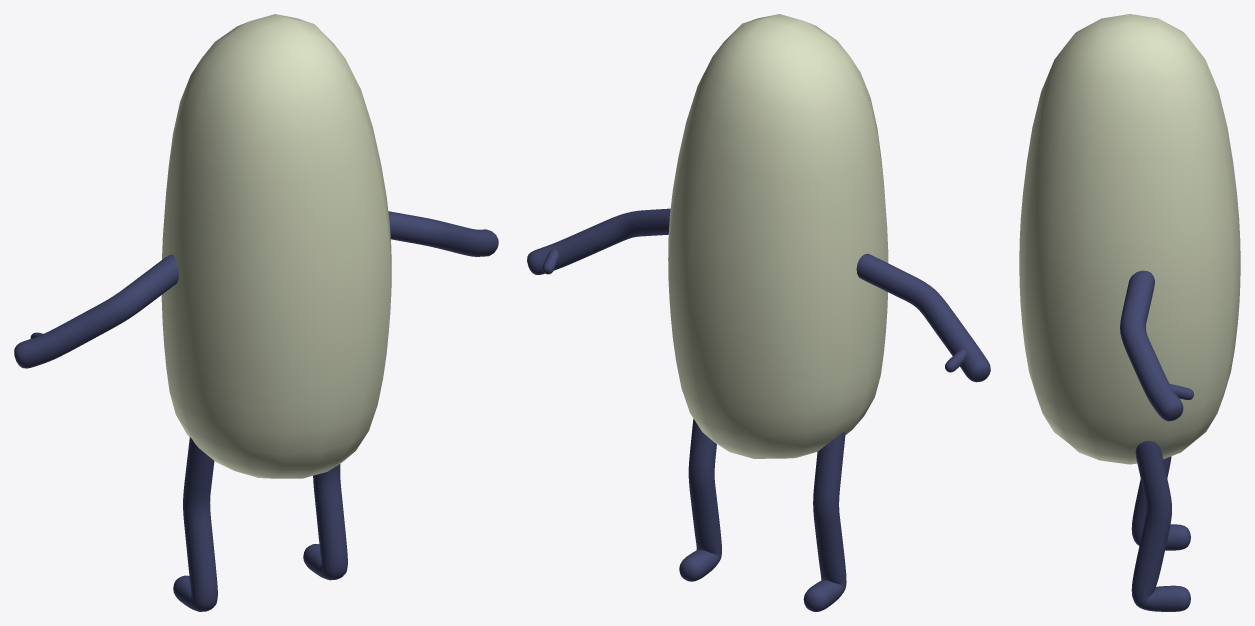
File: rice_v001.fbx
3 views of the same model, side by side, from view 1: azimuth 30°, elevation 25°; view 2: azimuth 150°, elevation 25°; view 3: azimuth 270°, elevation 25° (orthographic). The views are drawn at different scales.
Parts seen in each view (by area): view 1: rice_GEO, leg_L.001, leg_L.002; view 2: rice_GEO, leg_L.001, leg_L.002; view 3: rice_GEO, leg_L.001, leg_L.002.
Boxes of the visible parts, <box> form: rice_GEO: <box>161,14,391,478</box>; leg_L.001: <box>173,437,347,611</box>; leg_L.002: <box>14,211,498,368</box>; rice_GEO: <box>668,14,888,458</box>; leg_L.001: <box>679,418,846,611</box>; leg_L.002: <box>527,208,990,382</box>; rice_GEO: <box>1019,14,1240,464</box>; leg_L.001: <box>1131,441,1190,611</box>; leg_L.002: <box>1120,270,1193,421</box>.
Size of the model in its own units: 189 by 218 by 77.7.
